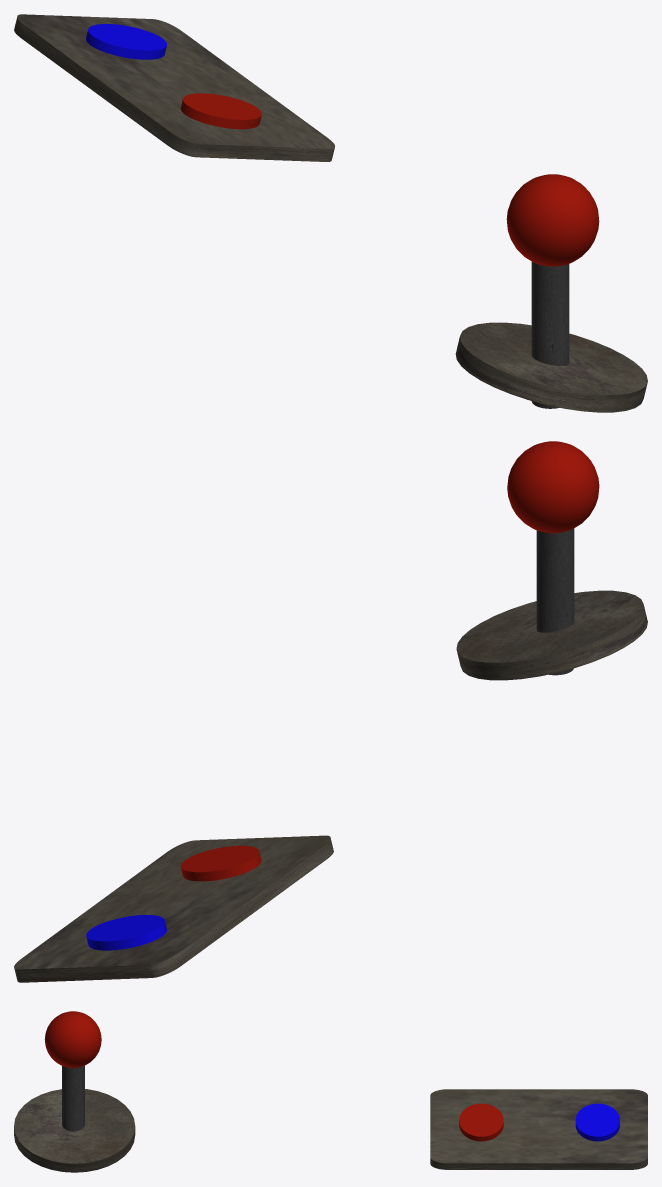
File: AracdeControls.fbx
3 views of the same model, one above another, from view 1: azimuth 30°, elevation 25°; view 2: azimuth 150°, elevation 25°; view 3: azimuth 270°, elevation 25° (orthographic). The views are drawn at different scales.
Visible parts, largest first — view 1: Cylinder.003; view 2: Cylinder.003; view 3: Cylinder.003.
Part boxes in pixels (box(x1,y1,x2,y2)): Cylinder.003: box(14, 14, 647, 412); Cylinder.003: box(14, 441, 647, 982); Cylinder.003: box(14, 1011, 647, 1172).
Bounding box in the file's own units: 9.64 × 12.44 × 52.45.
